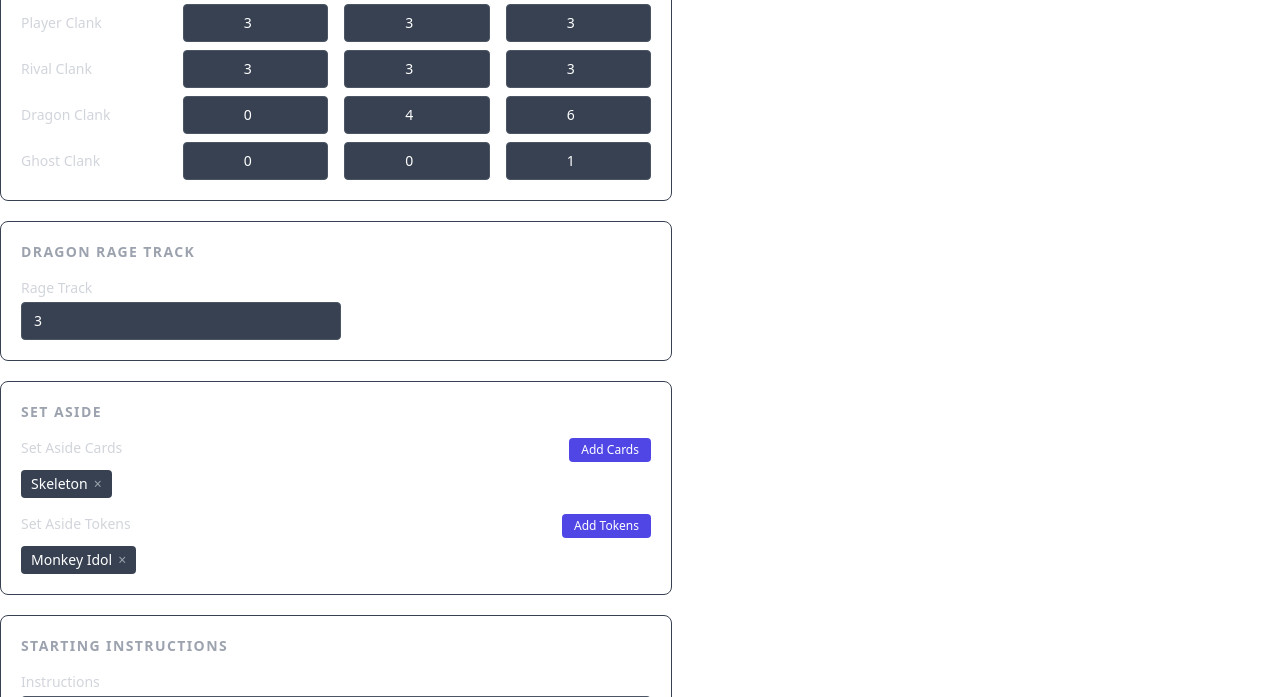
Test: SetupTab › opening the modal does not pre-check cards not in Set Aside Cards
(page scrolled)
What coordinates should you click on to do the following:
click the button "Add Cards"
I would click on:
 (610, 450)
Its box is 569,438 -> 651,462.
(page scrolled)
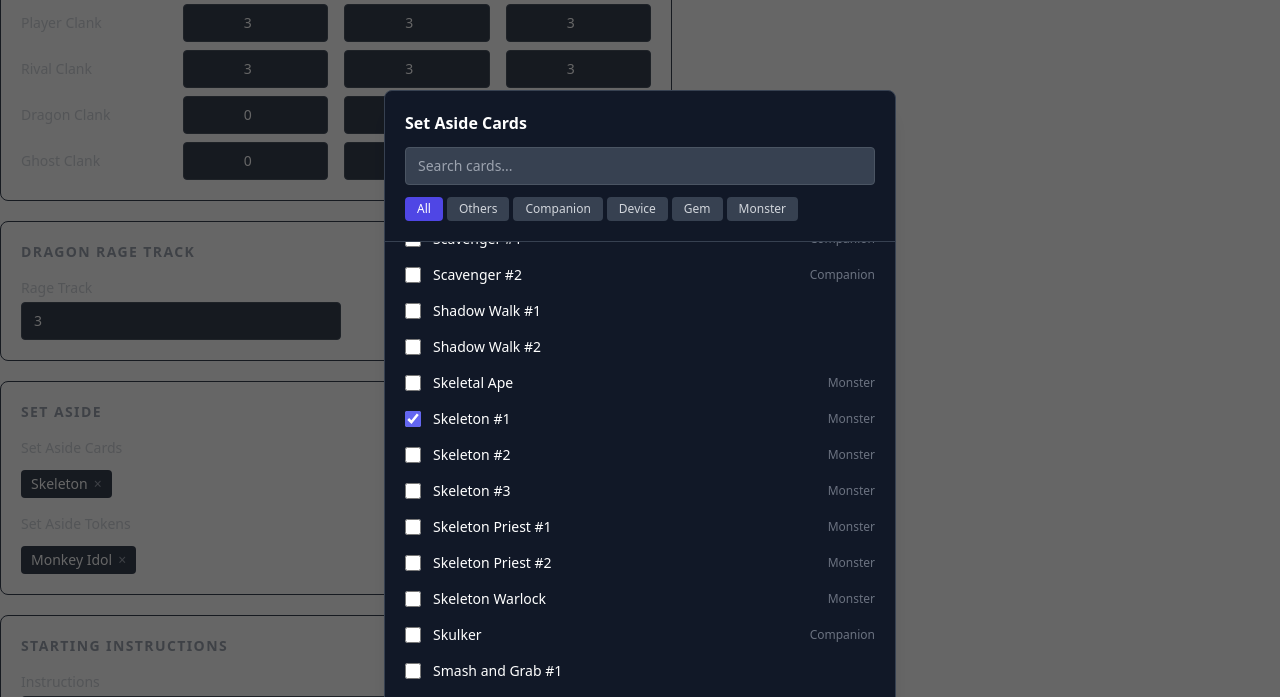
Expected: the checkbox labelled "Skeleton #2 Monster" is not checked, 405,447 -> 421,463
Expected: the checkbox labelled "Skeleton #3 Monster" is not checked, 405,483 -> 421,499
